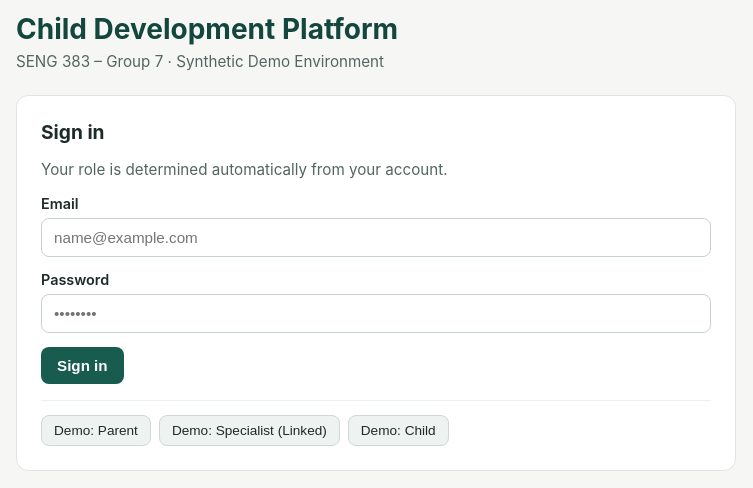
it: Walking skeleton login and role screens › shows the account role screen for Child and clears it on logout
Click the button "Demo: Child" at [398, 430], box [348,415,449,446]
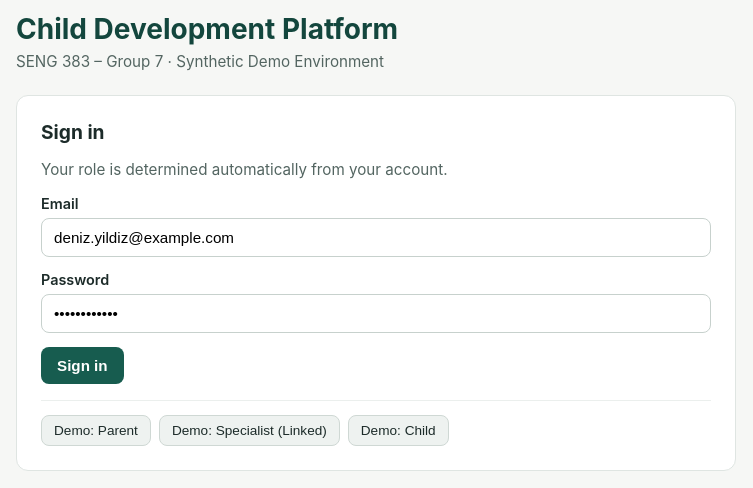
Click the button "Sign in" at [82, 365], box [41,347,124,384]
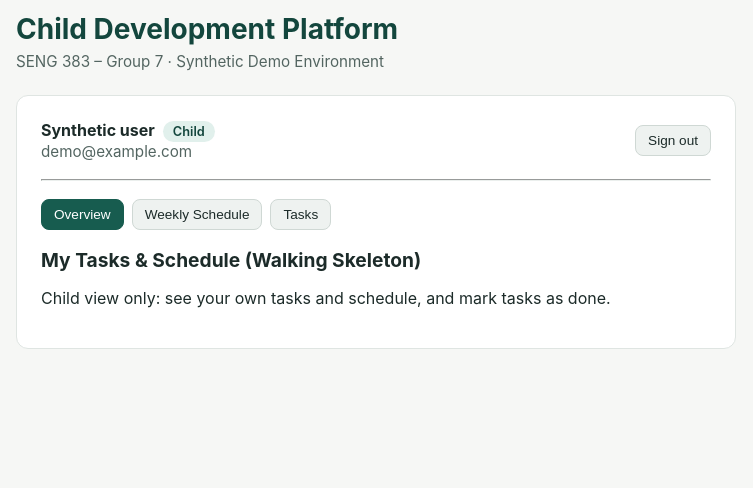
Now the heading "My Tasks & Schedule (Walking Skeleton)" is shown, box [41,248,421,272]
Click the button "Sign out" at [673, 140], box [635,125,711,156]
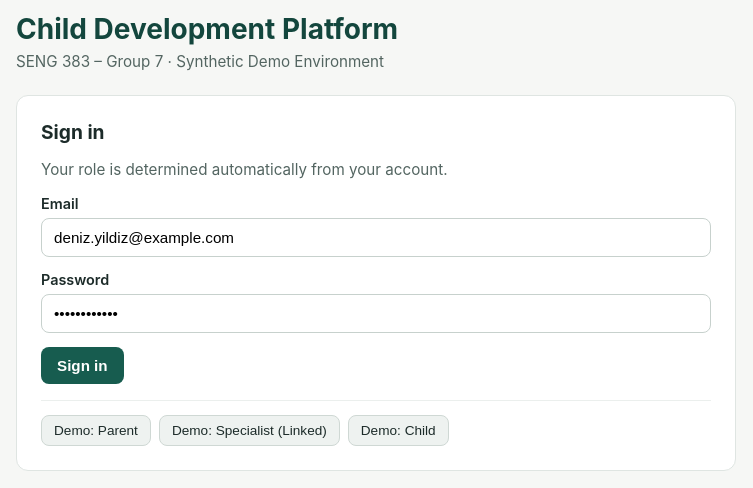
Now the heading "Sign in" is shown, box [41,120,104,144]
Now the heading "My Tasks & Schedule (Walking Skeleton)" is gone
